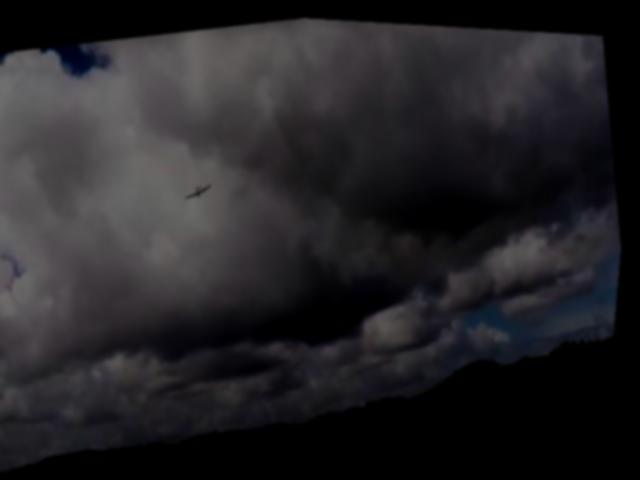iha: (184, 174, 218, 201)
